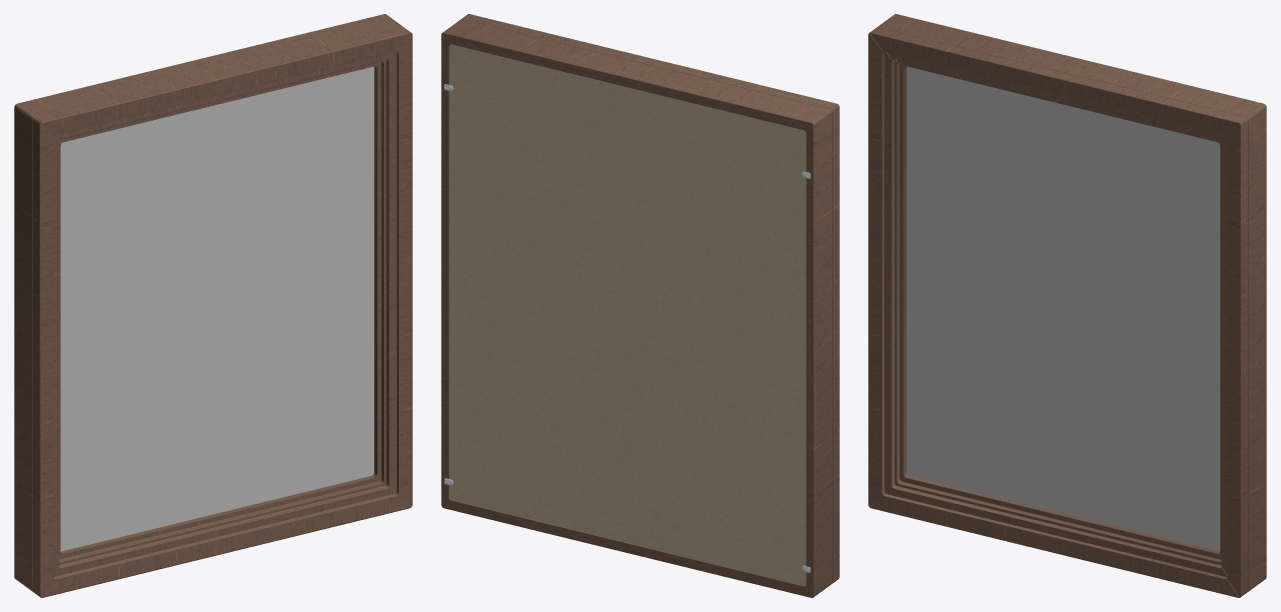
Rendered from Cornice.fbx.
3 renders of one model, left to right at view 1: azimuth 30°, elevation 25°; view 2: azimuth 150°, elevation 25°; view 3: azimuth 330°, elevation 25°, orthographic.
Visible parts, largest first — view 1: Cube.002; view 2: Cube.002; view 3: Cube.002.
Part boxes in pixels (x1,y1,x2,y2): Cube.002: [14, 14, 412, 597]; Cube.002: [441, 14, 839, 597]; Cube.002: [868, 14, 1266, 597].
Size of the model in its own units: 177 by 215 by 21.51.
